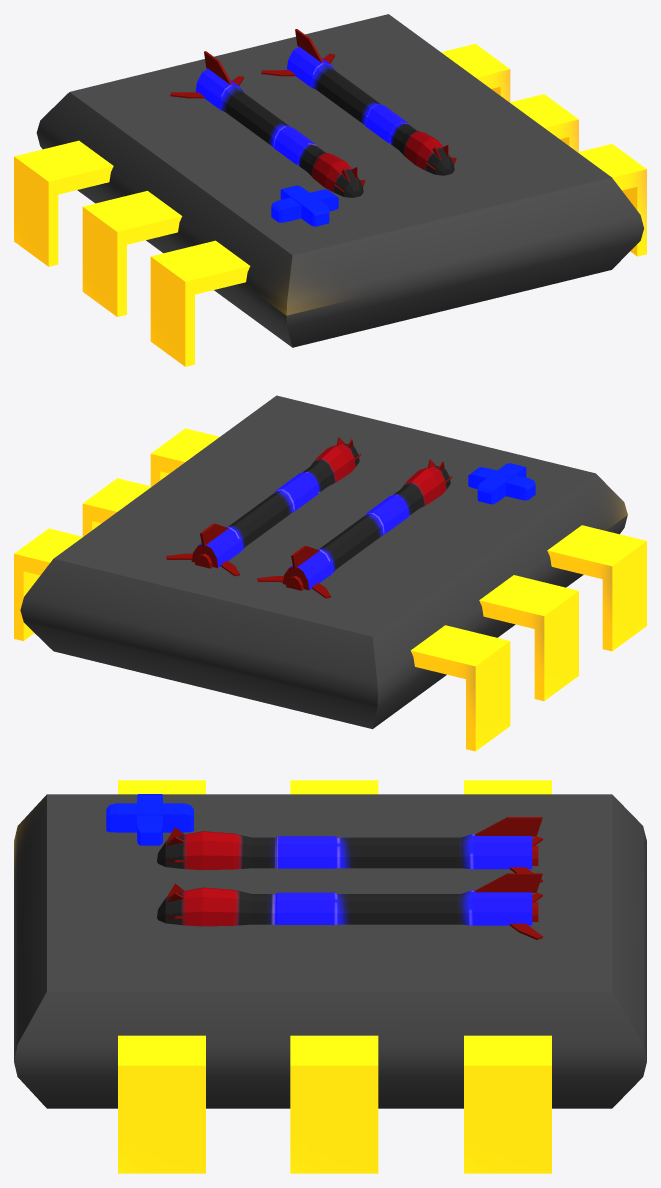
Rendered from AmmoPwrUp.fbx.
3 views of the same model, one above another, from view 1: azimuth 30°, elevation 25°; view 2: azimuth 150°, elevation 25°; view 3: azimuth 270°, elevation 25° (orthographic). The views are drawn at different scales.
Parts seen in each view (by area): view 1: AmmoPwrUp; view 2: AmmoPwrUp; view 3: AmmoPwrUp.
Boxes of the visible parts, x1,y1,x2,y2 form: AmmoPwrUp: [14, 14, 646, 366]; AmmoPwrUp: [14, 395, 646, 751]; AmmoPwrUp: [14, 780, 646, 1173].
Bounding box in the file's own units: 13.68 × 4.17 × 12.83.
